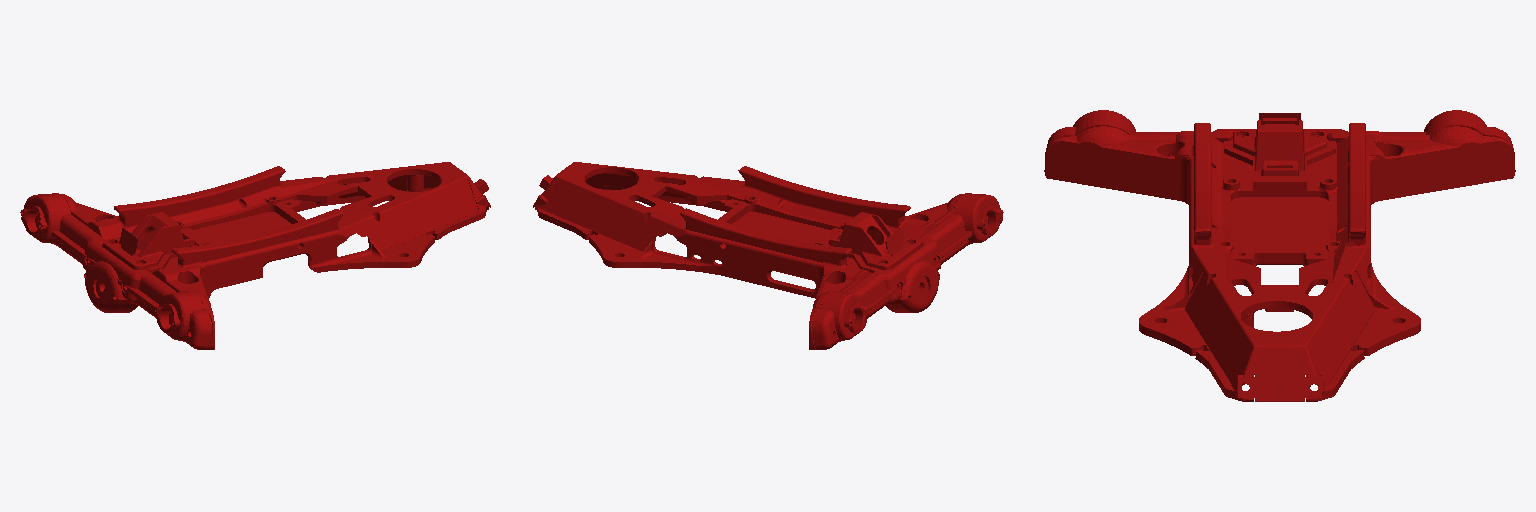
robot.urdf — sdf_pro:
<?xml version="1.0"?>
<!--
/****************************************************************************
 *   Copyright (c) 2018 [author]. All rights reserved.
 *
 * Redistribution and use in source and binary forms, with or without
 * modification, are permitted provided that the following conditions
 * are met:
 *
 * 1. Redistributions of source code must retain the above copyright
 *    notice, this list of conditions and the following disclaimer.
 * 2. Redistributions in binary form must reproduce the above copyright
 *    notice, this list of conditions and the following disclaimer in
 *    the documentation and/or other materials provided with the
 *    distribution.
 * 3. Neither the name ATLFlight nor the names of its contributors may be
 *    used to endorse or promote products derived from this software
 *    without specific prior written permission.
 *
 * NO EXPRESS OR IMPLIED LICENSES TO ANY PARTY'S PATENT RIGHTS ARE GRANTED BY THIS LICENSE.
 * THIS SOFTWARE IS PROVIDED BY THE COPYRIGHT [author]
 * "AS IS" AND ANY EXPRESS OR IMPLIED WARRANTIES, INCLUDING, BUT NOT
 * LIMITED TO, THE IMPLIED WARRANTIES OF MERCHANTABILITY AND FITNESS
 * FOR A PARTICULAR PURPOSE ARE DISCLAIMED. IN NO EVENT SHALL THE
 * COPYRIGHT [author] LIABLE FOR ANY DIRECT, INDIRECT,
 * INCIDENTAL, SPECIAL, EXEMPLARY, OR CONSEQUENTIAL DAMAGES (INCLUDING,
 * BUT NOT LIMITED TO, PROCUREMENT OF SUBSTITUTE GOODS OR SERVICES; LOSS
 * OF USE, DATA, OR PROFITS; OR BUSINESS INTERRUPTION) HOWEVER CAUSED
 * AND ON ANY THEORY OF LIABILITY, WHETHER IN CONTRACT, STRICT
 * LIABILITY, OR TORT (INCLUDING NEGLIGENCE OR OTHERWISE) ARISING IN
 * ANY WAY OUT OF THE USE OF THIS SOFTWARE, EVEN IF ADVISED OF THE
 * POSSIBILITY OF SUCH DAMAGE.
 *
 * In addition Supplemental Terms apply.  See the SUPPLEMENTAL file.
 ****************************************************************************/
-->
<robot name="sdf_pro">
  <link name="imu">
    <visual>
      <geometry>
        <mesh filename="package://qflight_descriptions/meshes/sdf_pro.stl"/>
      </geometry>
      <origin rpy="-1.57079632679 0 0" xyz="-.03621 .015 .00866"/>
      <material name="blue">
        <color rgba=".65 0.1 0.1 1"/>
      </material>
    </visual>
  </link>

  <joint name="imu_to_dfc" type="fixed">
    <parent link="imu"/>
    <child link="dfc"/>
    <origin xyz="-0.05051 0.015 0.01145" rpy="0.7853981633 0.0 -1.57079632679"/>
  </joint>
  <link name="dfc"/>

  <joint name="imu_to_hires" type="fixed">
    <parent link="imu"/>
    <child link="hires"/>
    <origin xyz="-0.06663 0.015 -0.00171" rpy="1.343903524 0.0 -1.57079632679"/>
  </joint>
  <link name="hires"/>

  <joint name="imu_to_left_stereo" type="fixed">
    <parent link="imu"/>
    <child link="left_stereo"/>
    <origin xyz="-0.06729 0.055 0.00409" rpy="1.343903524 0.0 -1.57079632679"/>
  </joint>
  <link name="left_stereo"/>

  <joint name="left_to_right_stereo" type="fixed">
    <parent link="left_stereo"/>
    <child link="right_stereo"/>
    <origin xyz="0.08 0.0 0.0"/>
  </joint>
  <link name="right_stereo"/>
</robot>

--- Render facts (derived) ---
3 views of the same robot in one strip: view 1: azimuth 30°, elevation 25°; view 2: azimuth 150°, elevation 25°; view 3: azimuth 270°, elevation 25° (orthographic).
Robot: sdf_pro — 5 links, 4 joints (4 fixed); root link imu; default pose: all joints at 0.
Links seen in each view (by area): view 1: imu; view 2: imu; view 3: imu.
Boxes of the visible links, left/top/right/bottom form: imu: left=20, top=162, right=490, bottom=349; imu: left=533, top=162, right=1003, bottom=349; imu: left=1044, top=110, right=1515, bottom=401.
Size in the robot's own frame: 0.1348 by 0.1067 by 0.0264 metres.
1 mesh visuals loaded from 1 distinct referenced files (1 binary STL).